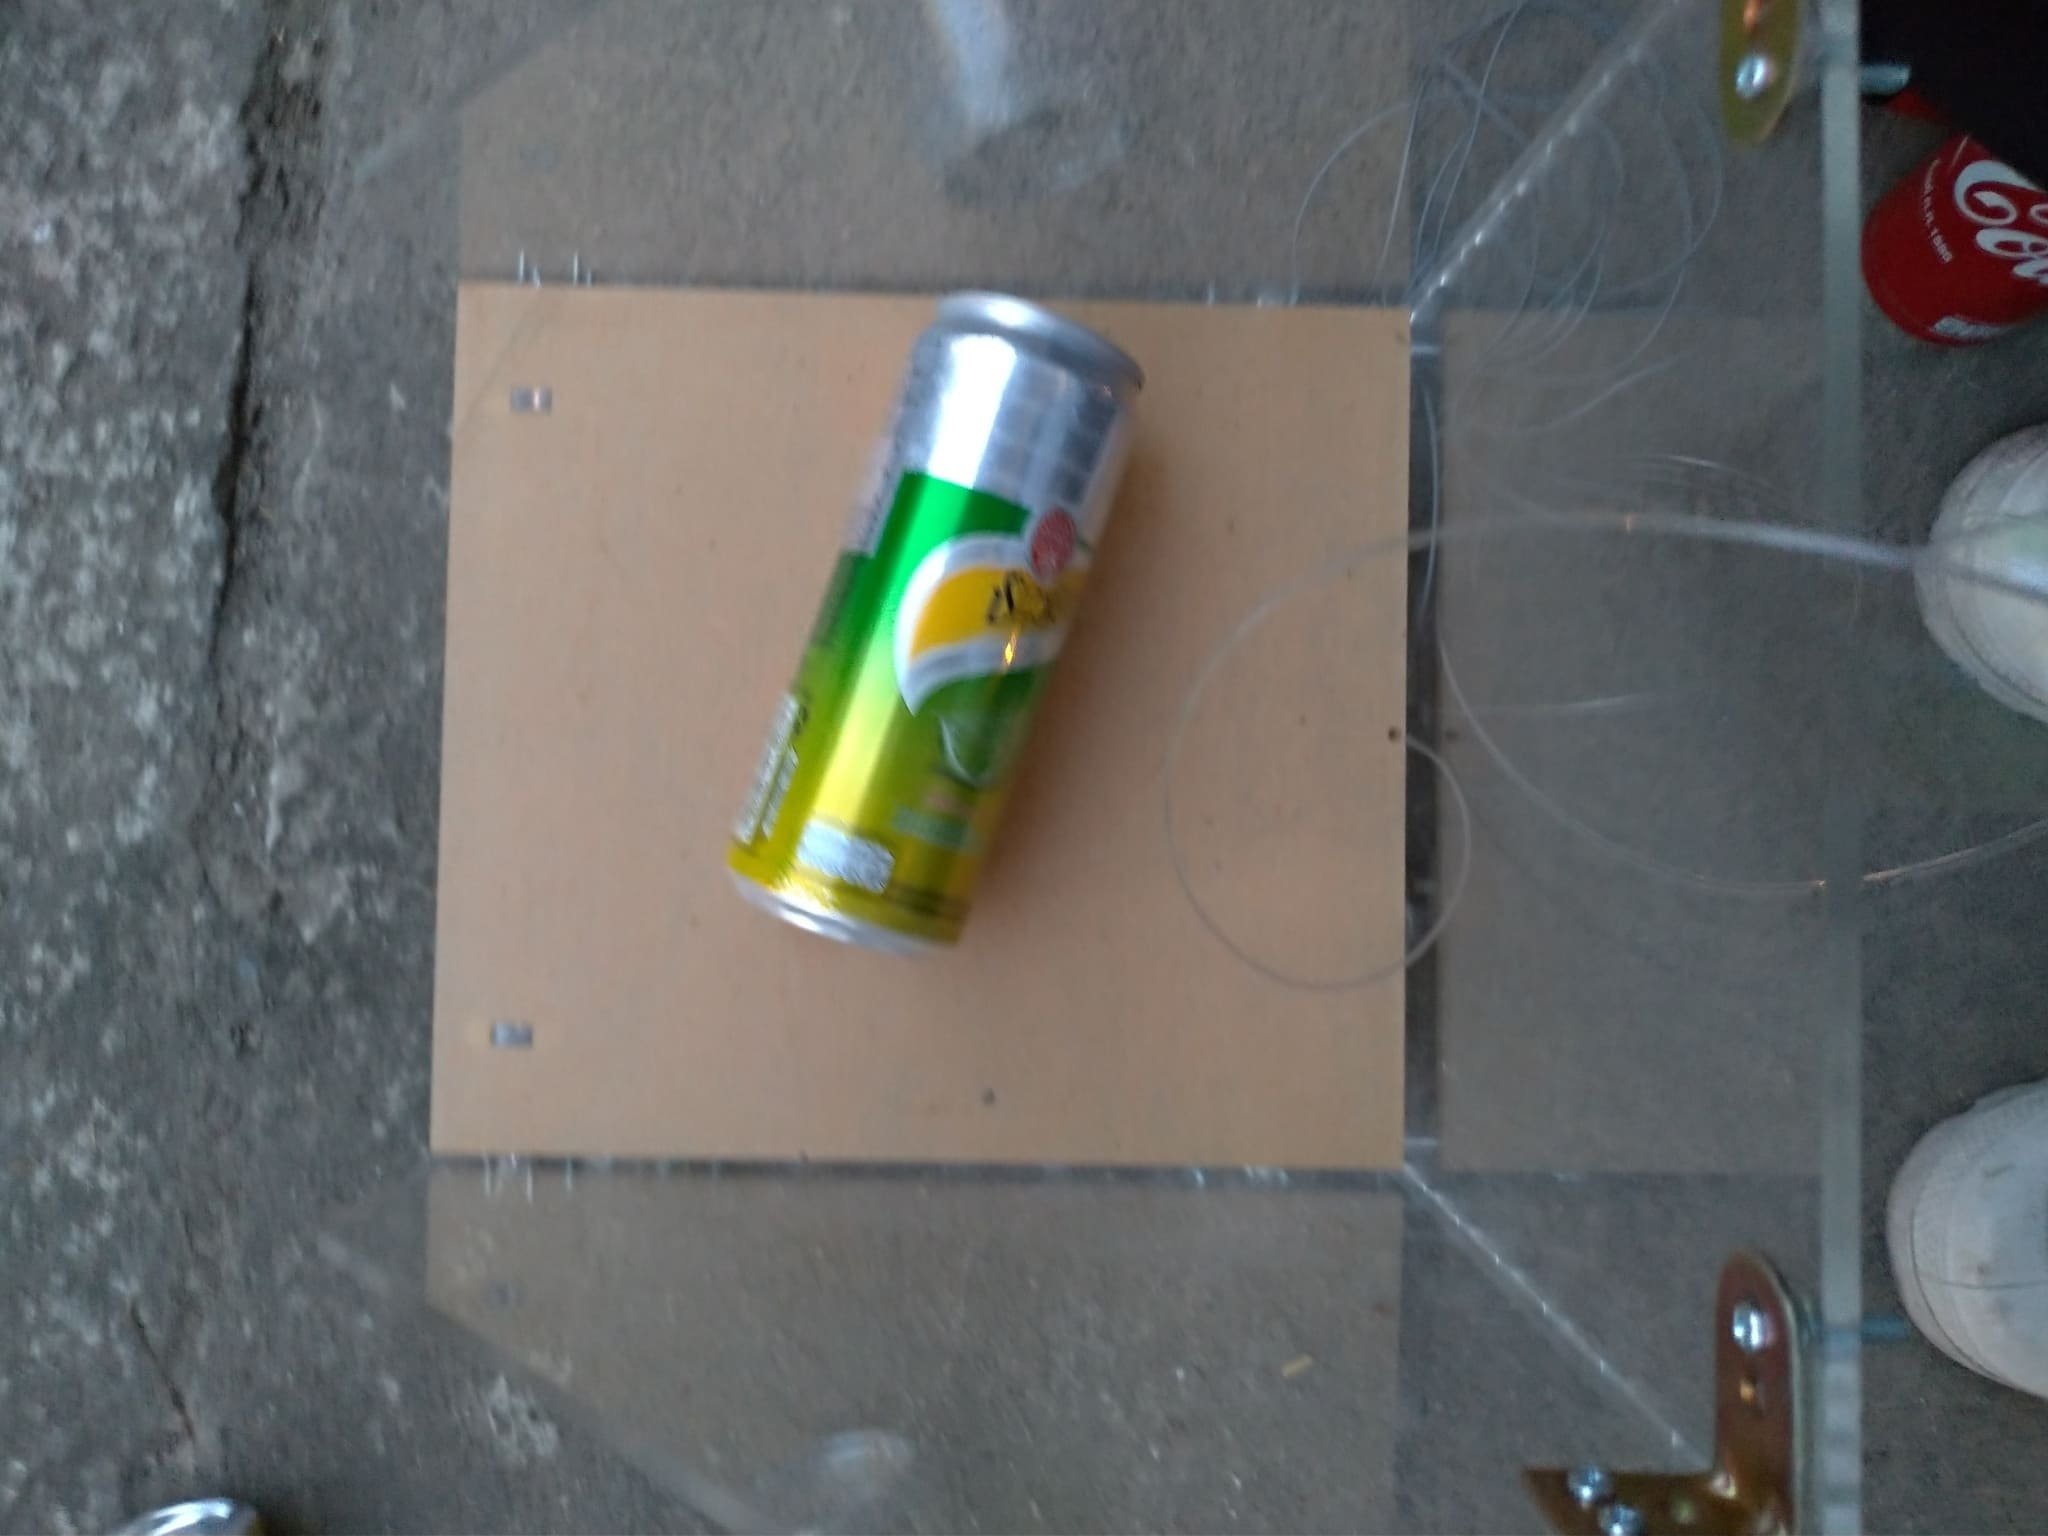AlCan: (719, 294, 1148, 955), (1858, 106, 2048, 360)
